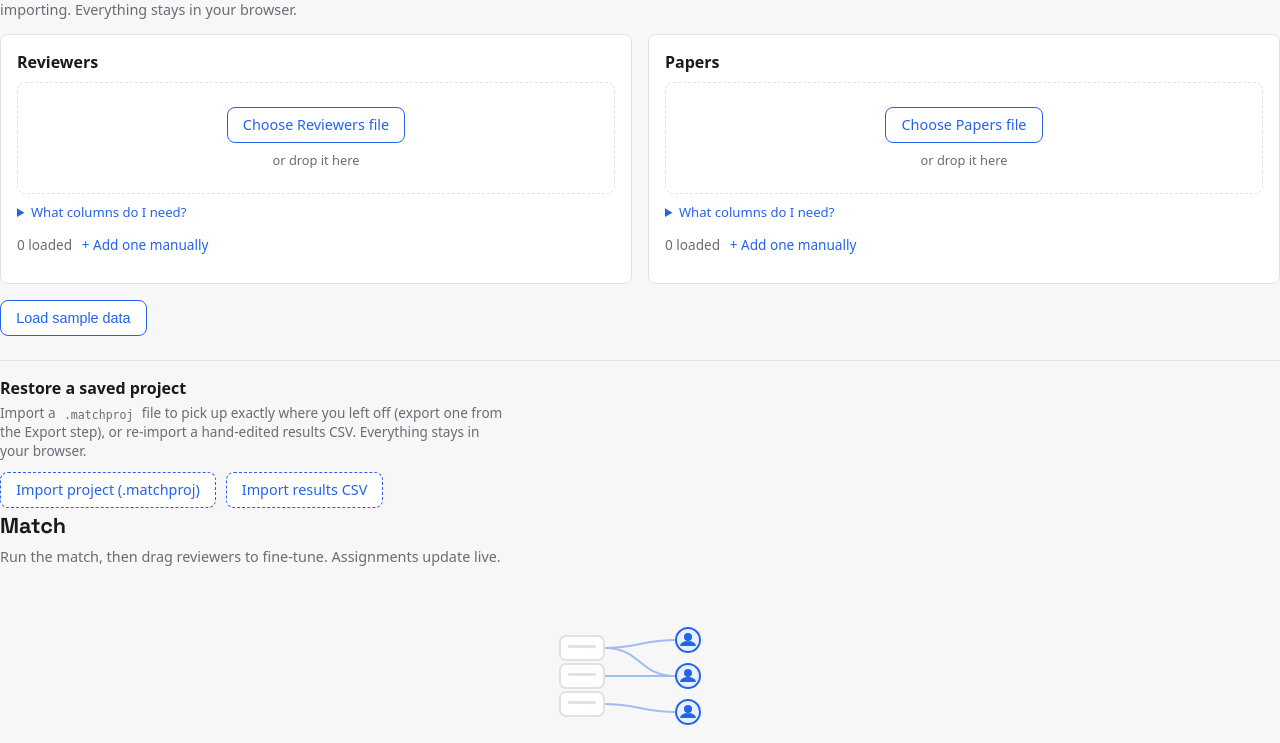
it: WorkloadScreen › lists each reviewer with their load and paper pills linking to Details
Click the button "Load sample data". click: (73, 318)
box: [0,300,147,336]
(page scrolled)
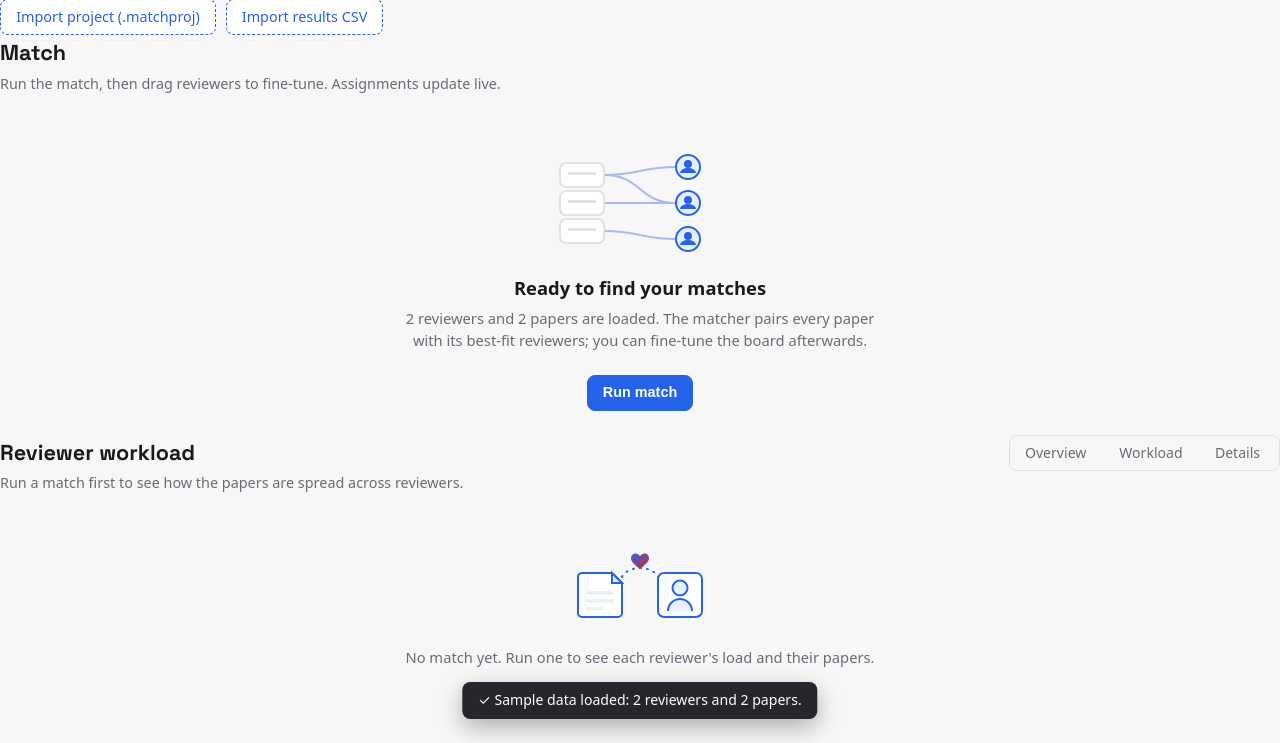
Click the button "Run match". click: (640, 392)
box: [587,374,693,410]
(page scrolled)
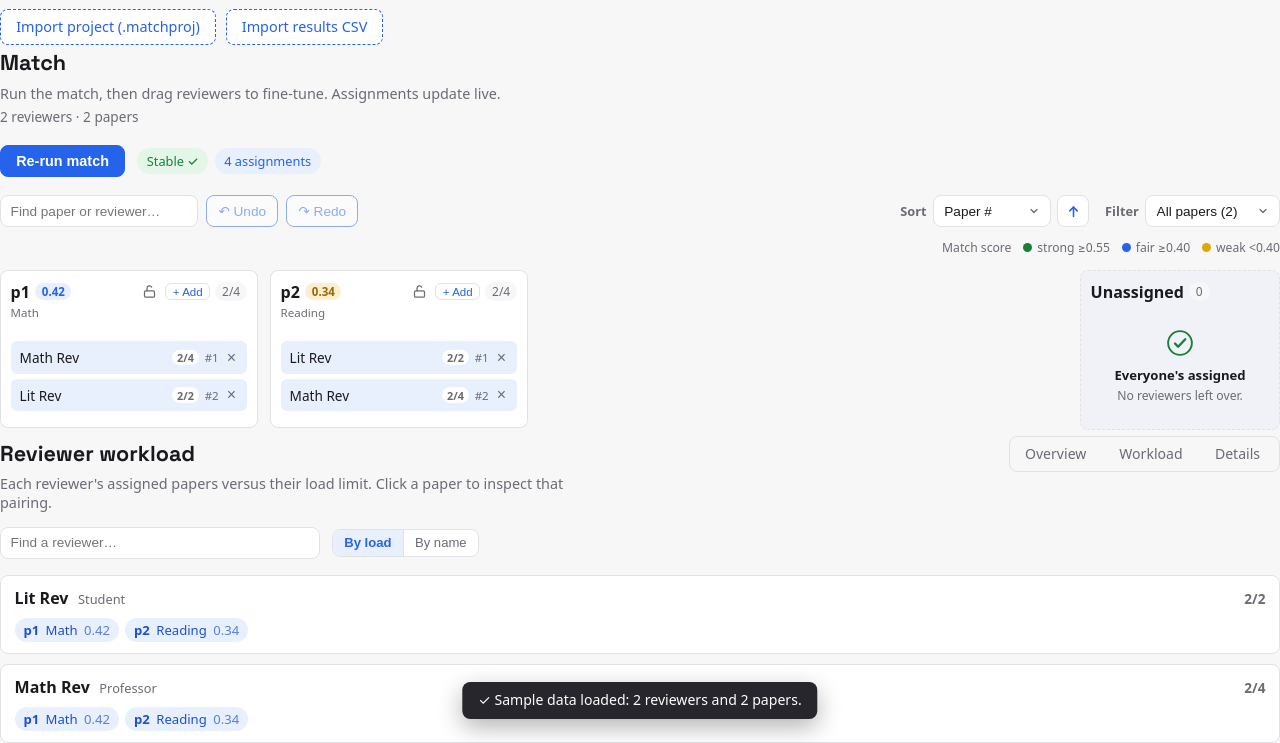
Check: the text "Stable ✓" is shown, box [137,148,208,174]
Check: the number of elements with class "workload-row" is 2, box [0,575,1279,654]; [0,664,1279,742]
Check: the link with class "workload-pill" below "student" is shown, box [15,618,119,642]
